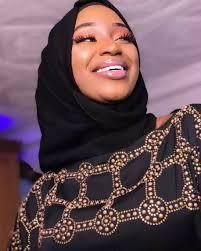No Mask: (48, 0, 172, 124)
